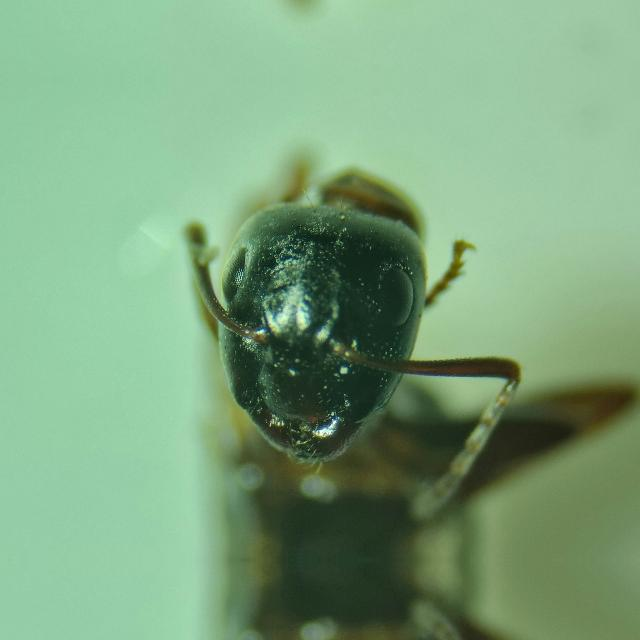Camponotus: (150, 153, 502, 489)
